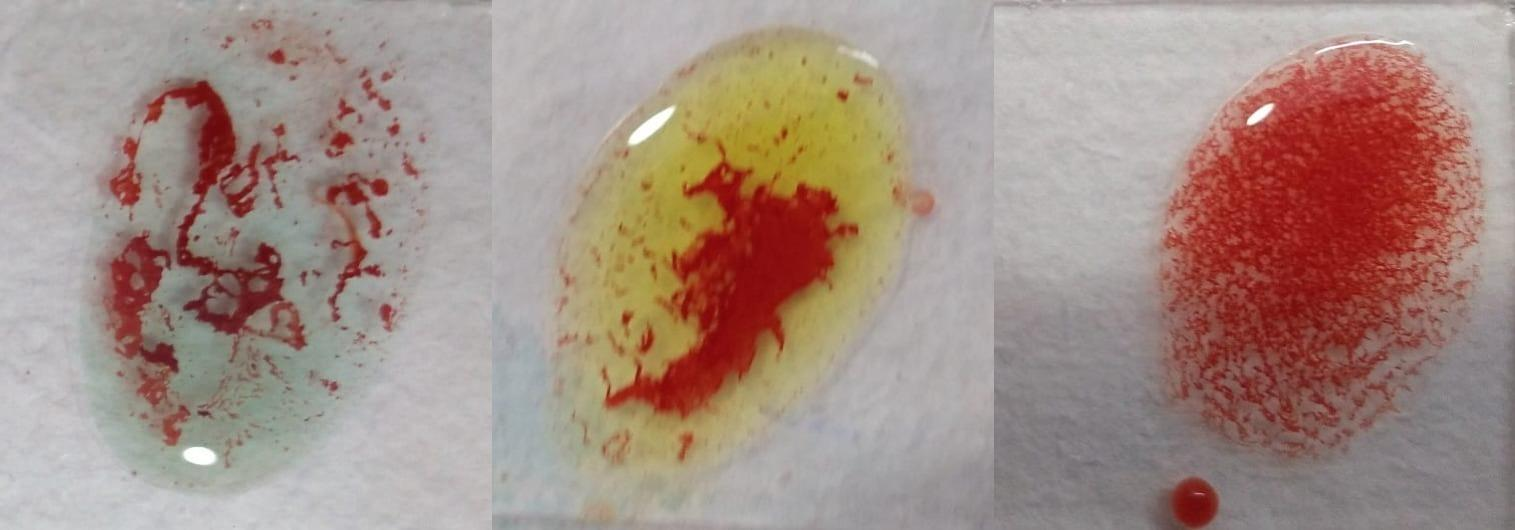A: (95, 7, 404, 486)
B: (550, 35, 895, 466)
D: (1156, 27, 1484, 461)
